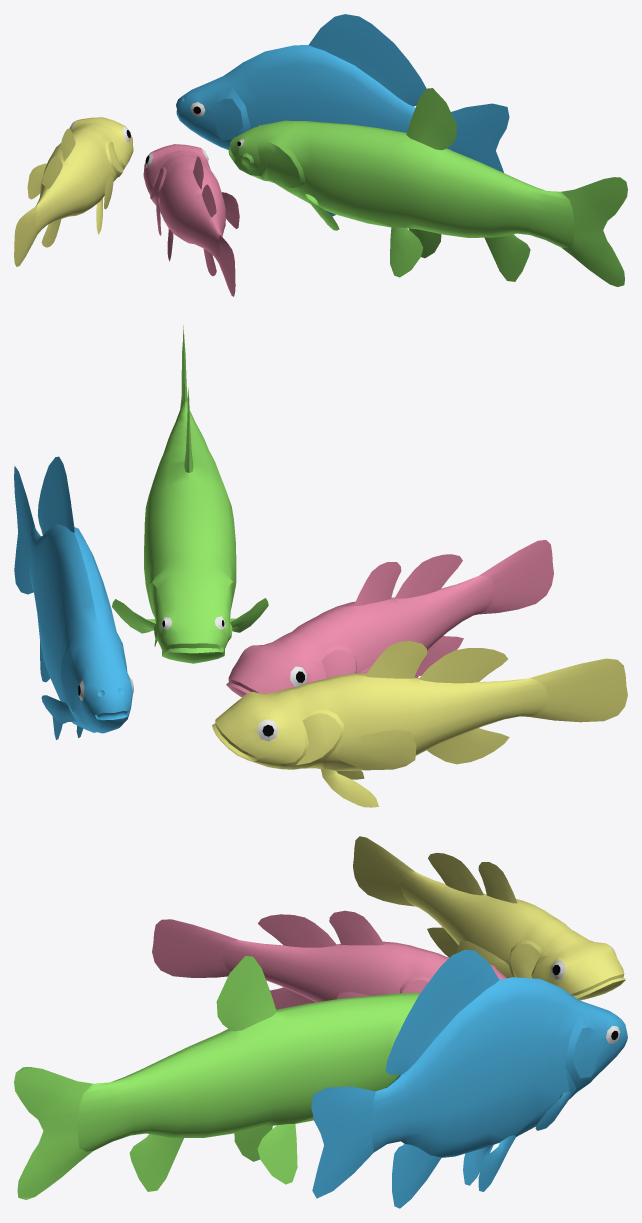
The model's file is fishy.fbx.
3 renders of one model, top to bottom at view 1: azimuth 30°, elevation 25°; view 2: azimuth 150°, elevation 25°; view 3: azimuth 270°, elevation 25°, orthographic. The views are drawn at different scales.
Parts seen in each view (by area): view 1: Circle.001, Circle, Circle.003, Circle.002; view 2: Circle.003, Circle.002, Circle.001, Circle; view 3: Circle.001, Circle, Circle.003, Circle.002.
Part boxes in pixels (x1,y1,x2,y2): Circle.001: [228, 88, 627, 286]; Circle: [176, 14, 509, 216]; Circle.003: [14, 117, 133, 266]; Circle.002: [143, 144, 239, 296]; Circle.003: [212, 641, 627, 807]; Circle.002: [226, 540, 553, 697]; Circle.001: [112, 325, 268, 663]; Circle: [14, 456, 133, 739]; Circle.001: [14, 956, 420, 1199]; Circle: [311, 949, 627, 1208]; Circle.003: [353, 836, 625, 1000]; Circle.002: [152, 910, 506, 1009].
Bounding box in the file's own units: 758 × 305 × 697.
